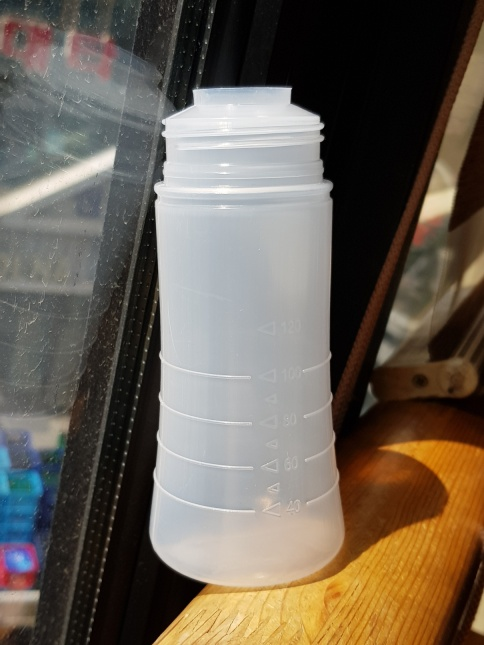Plastic: (145, 78, 352, 590)
